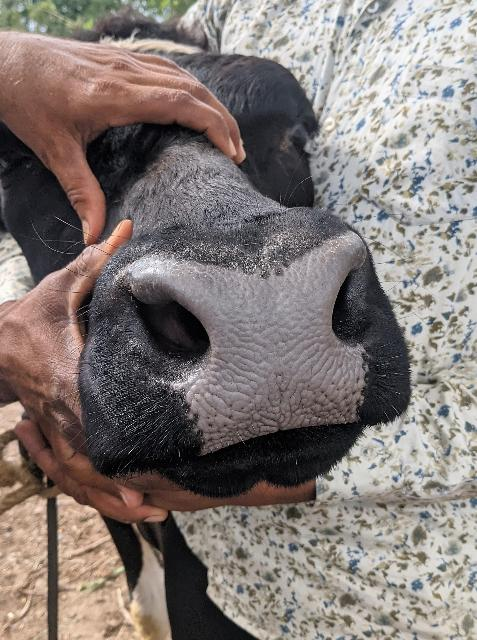Muzzle: (197, 274, 342, 428)
